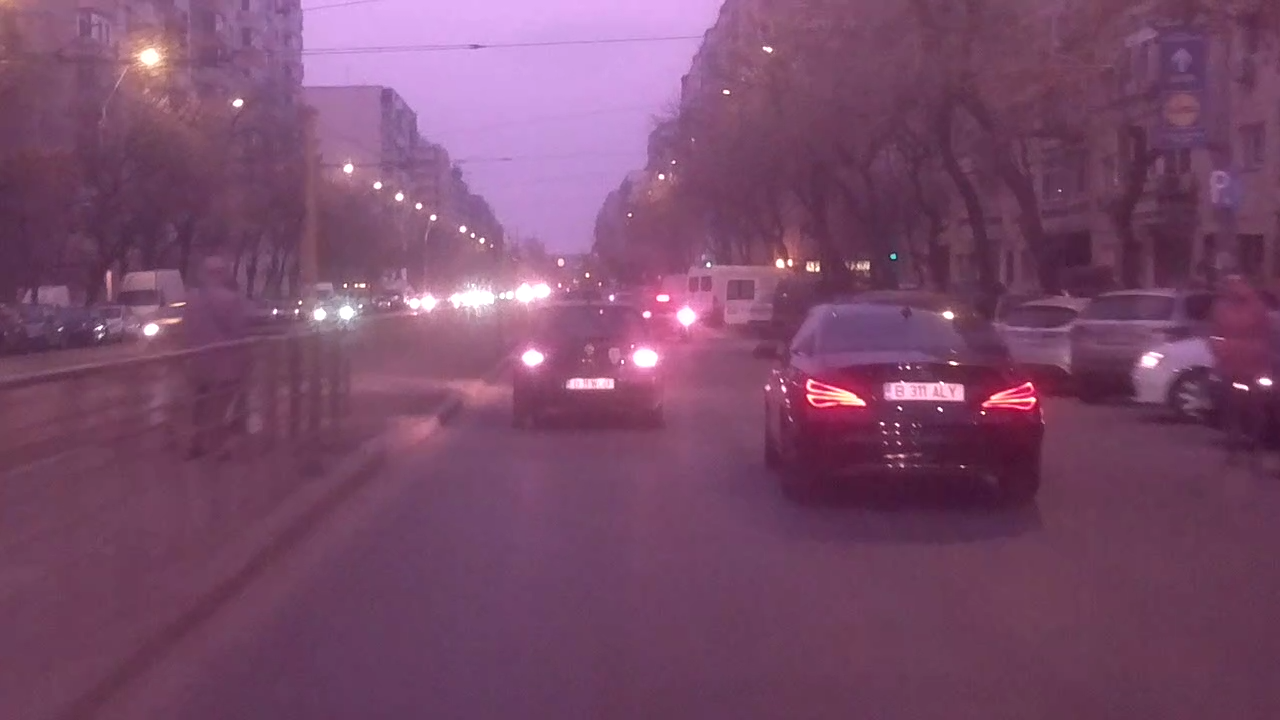license-plate: (880, 379, 966, 403)
